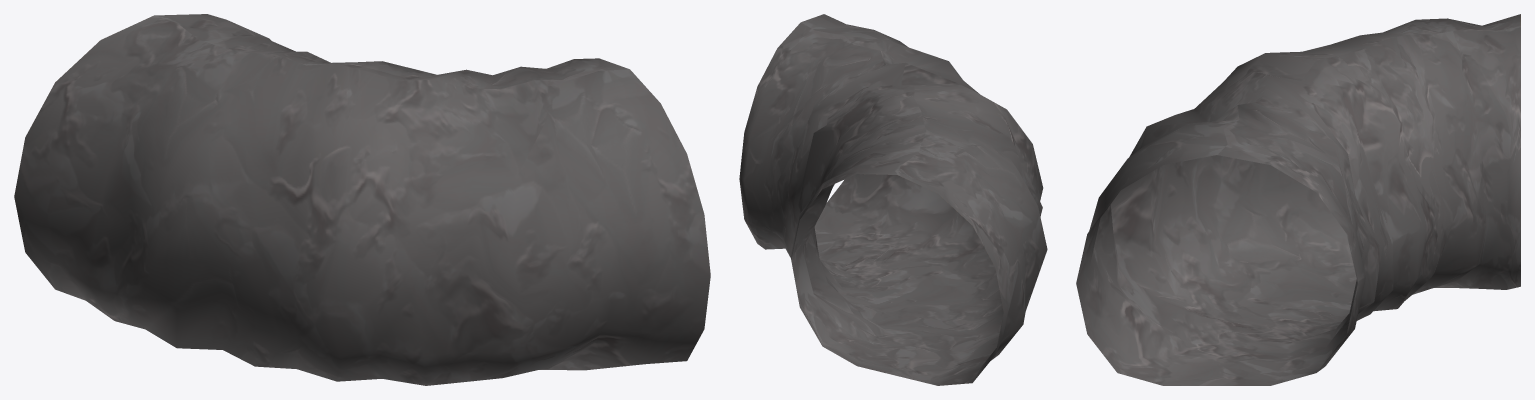
The model's file is MOD_Turn.fbx.
3 renders of one model, left to right at view 1: azimuth 30°, elevation 25°; view 2: azimuth 150°, elevation 25°; view 3: azimuth 270°, elevation 25°, orthographic. The views are drawn at different scales.
Visible parts, largest first — view 1: Final_Curved_Tunnel; view 2: Final_Curved_Tunnel; view 3: Final_Curved_Tunnel.
Boxes of the visible parts, box(x1,y1,x2,y2) form: Final_Curved_Tunnel: box(14, 14, 710, 385); Final_Curved_Tunnel: box(739, 14, 1047, 385); Final_Curved_Tunnel: box(1076, 14, 1520, 385).
Size of the model in its own units: 6.2 by 3.68 by 6.2.
